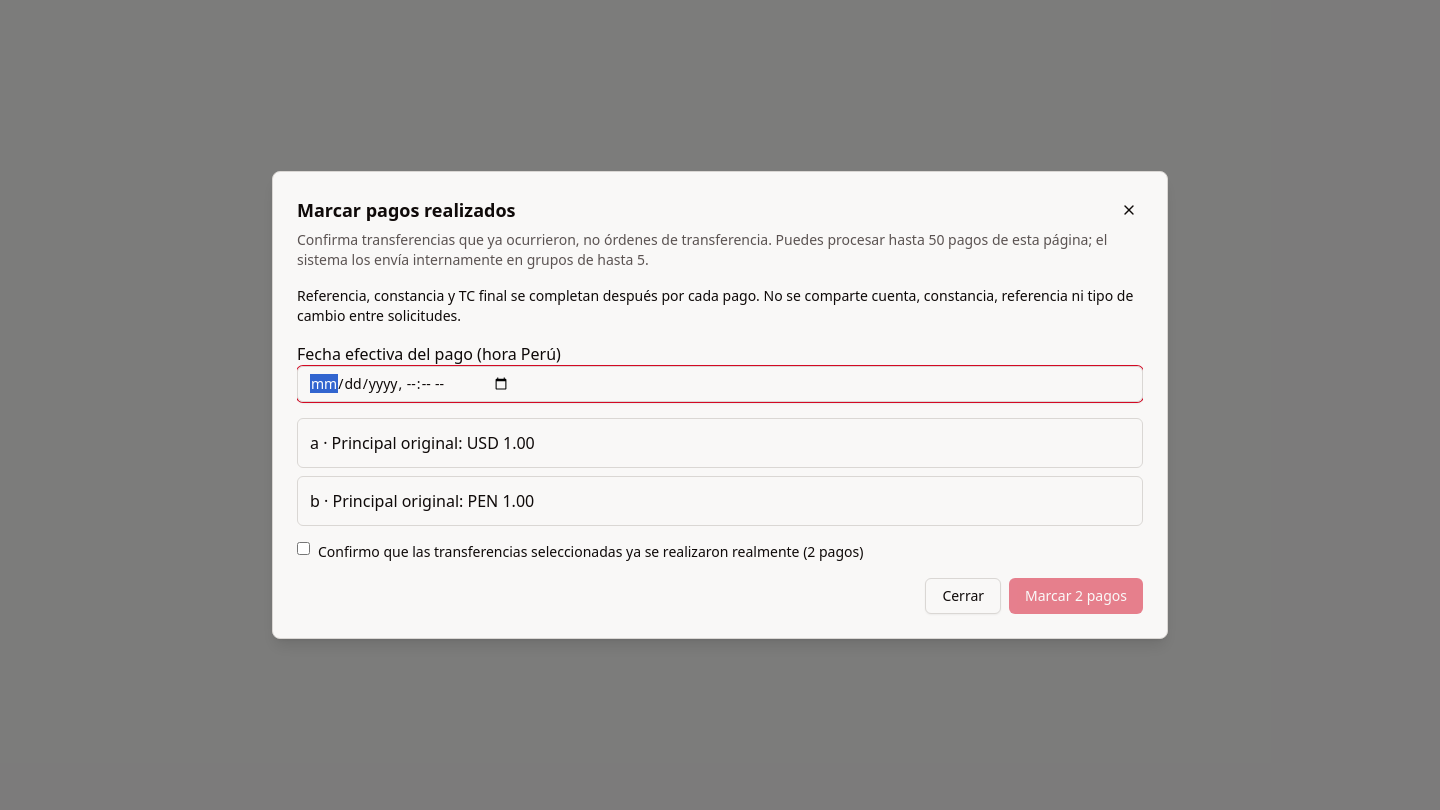
requires actual-transfer confirmation, sends independent keys, displays partial/conflict outcomes without shared TC
Expected: the button "Marcar 2 pagos" is disabled, [1009,578,1143,614]
Type "2026-09-10T10:30" into the field labelled "Fecha efectiva del pago (hora Perú)".
click(720, 384); type("2026-09-10T10:30")  # box [297,366,1143,402]
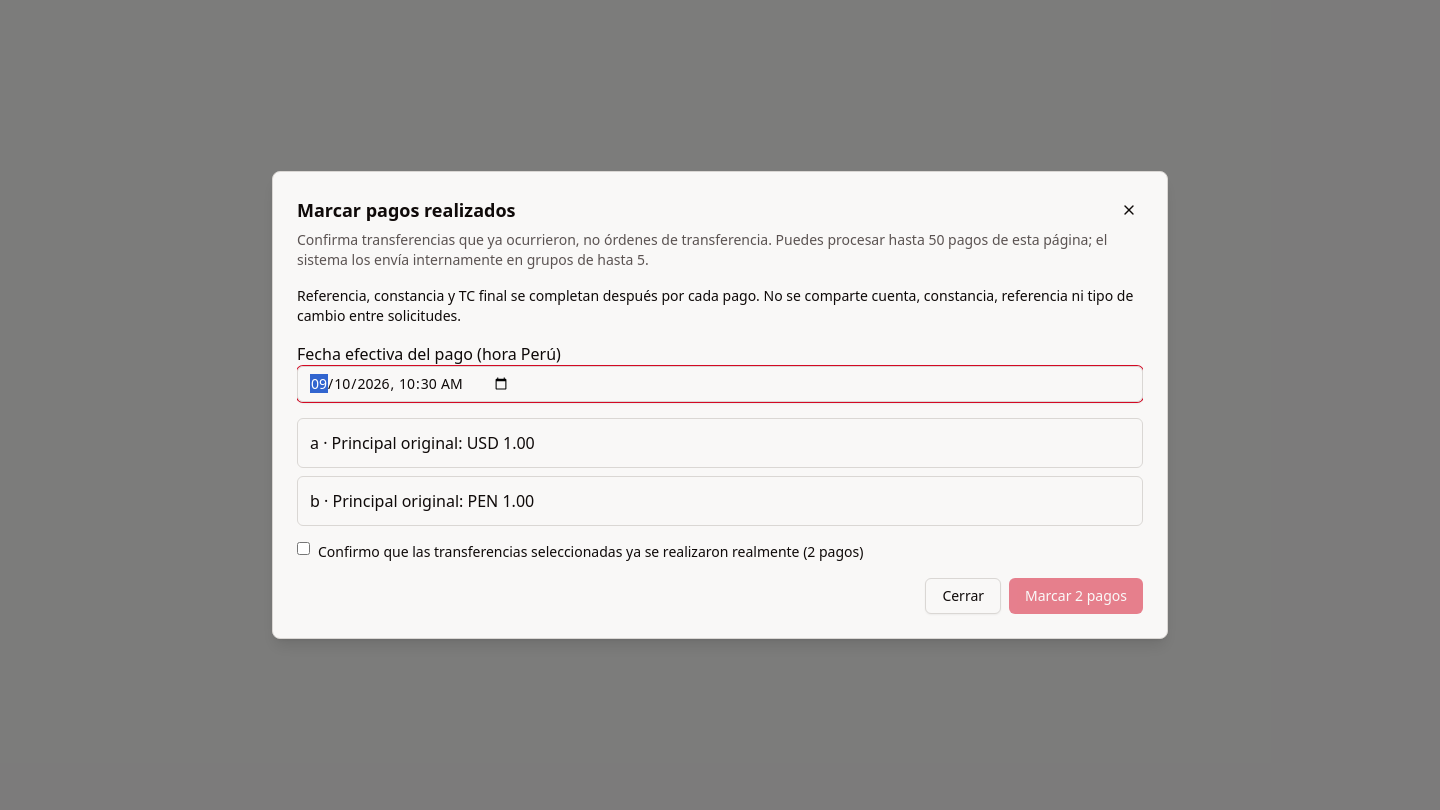
Click the checkbox labelled "Confirmo que las transferencias".
click(304, 548)  # box [297,542,310,555]
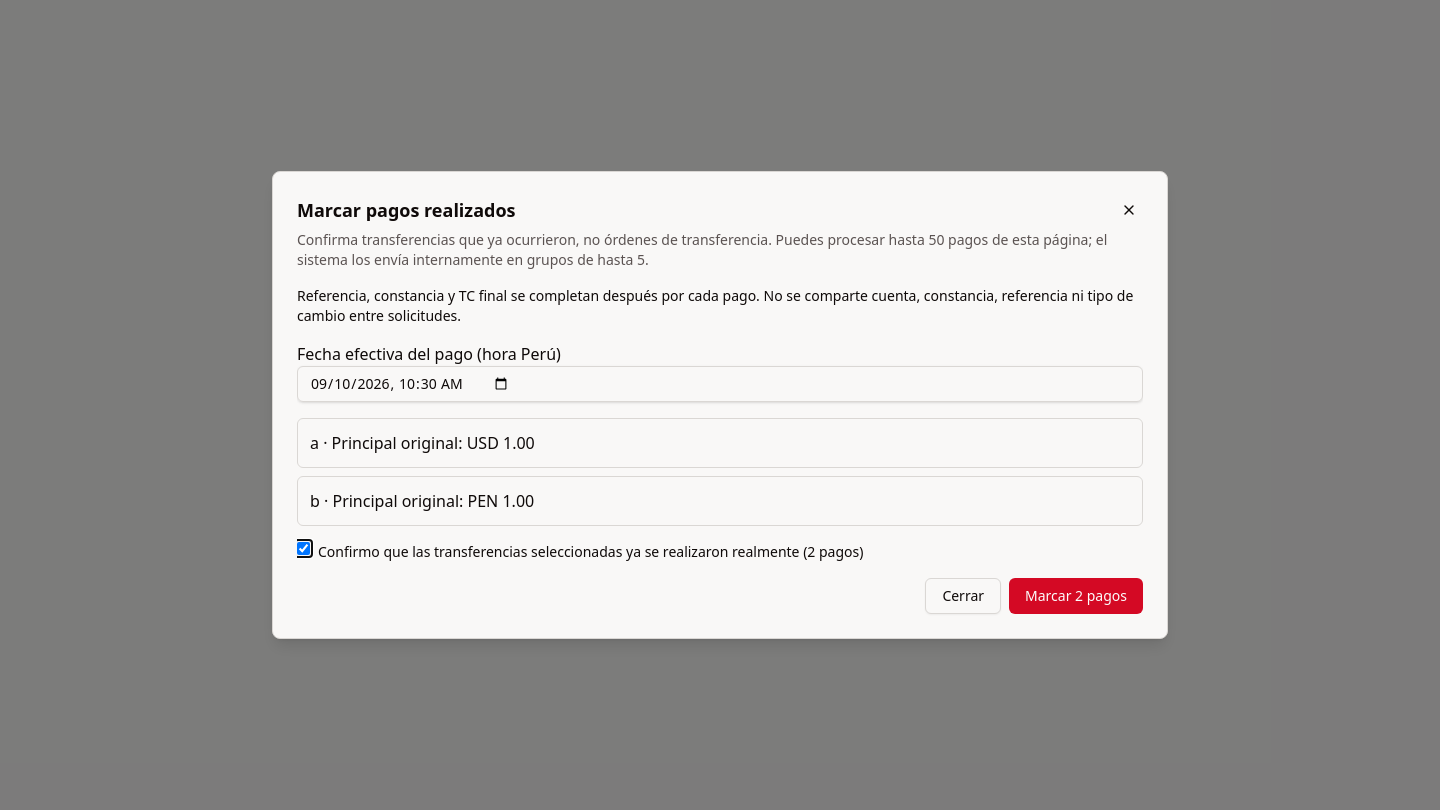
Click the button "Marcar 2 pagos".
click(1076, 596)  # box [1009,578,1143,614]
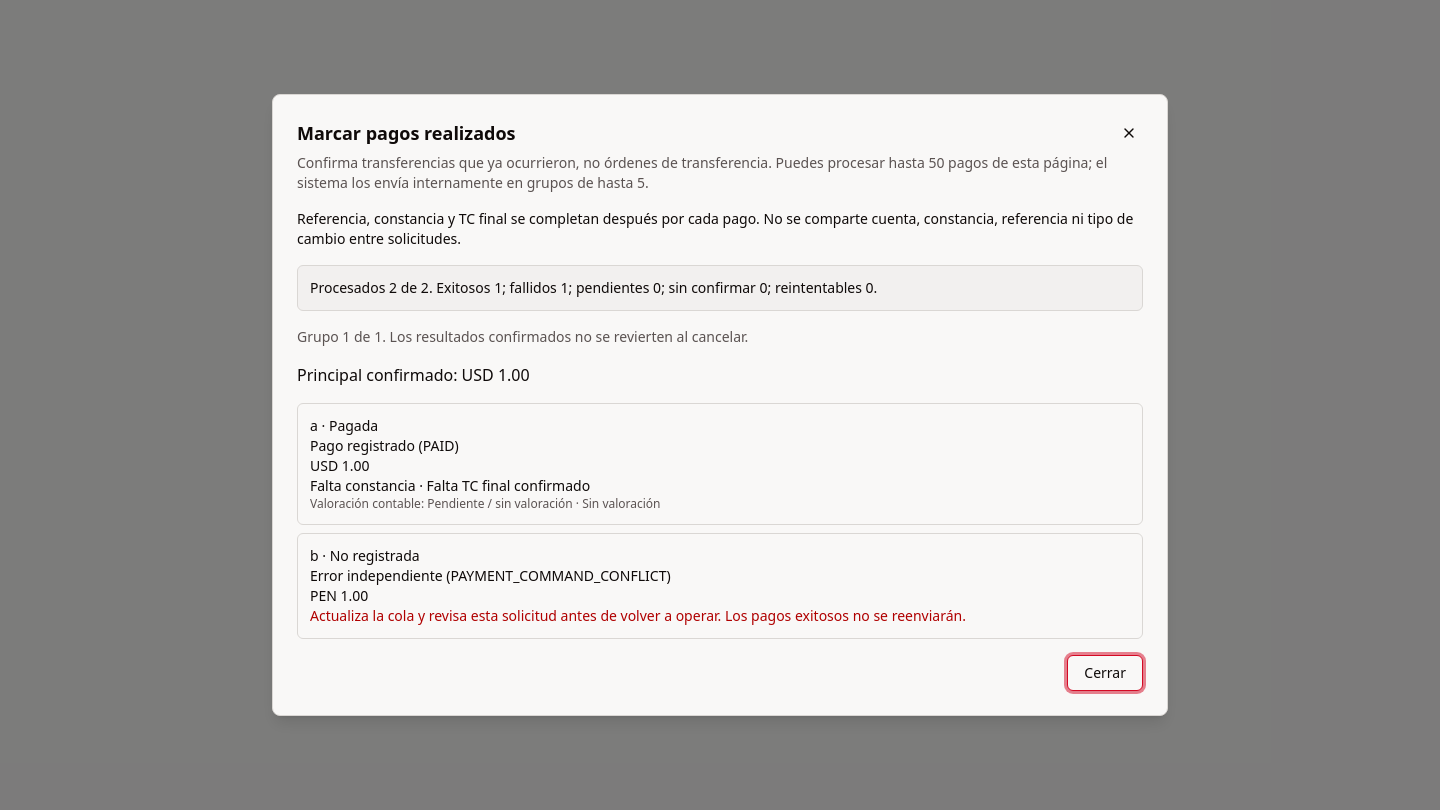
Result: the text "Error independiente (PAYMENT_COMMAND_CONFLICT)" is shown at [310,566,671,585]
Result: the text "Principal confirmado: USD 1.00" is shown at [297,364,530,386]
Result: the text "Actualiza la cola y revisa" is shown at [310,606,966,625]
